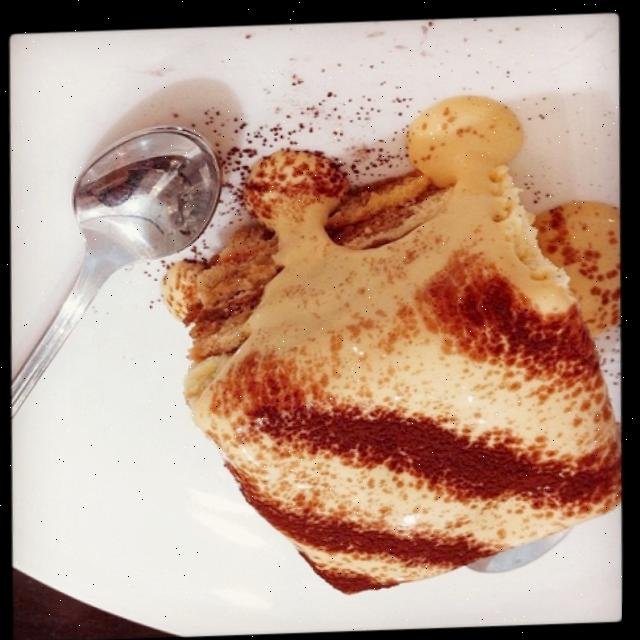蛋糕甜品: (4, 14, 638, 637)
